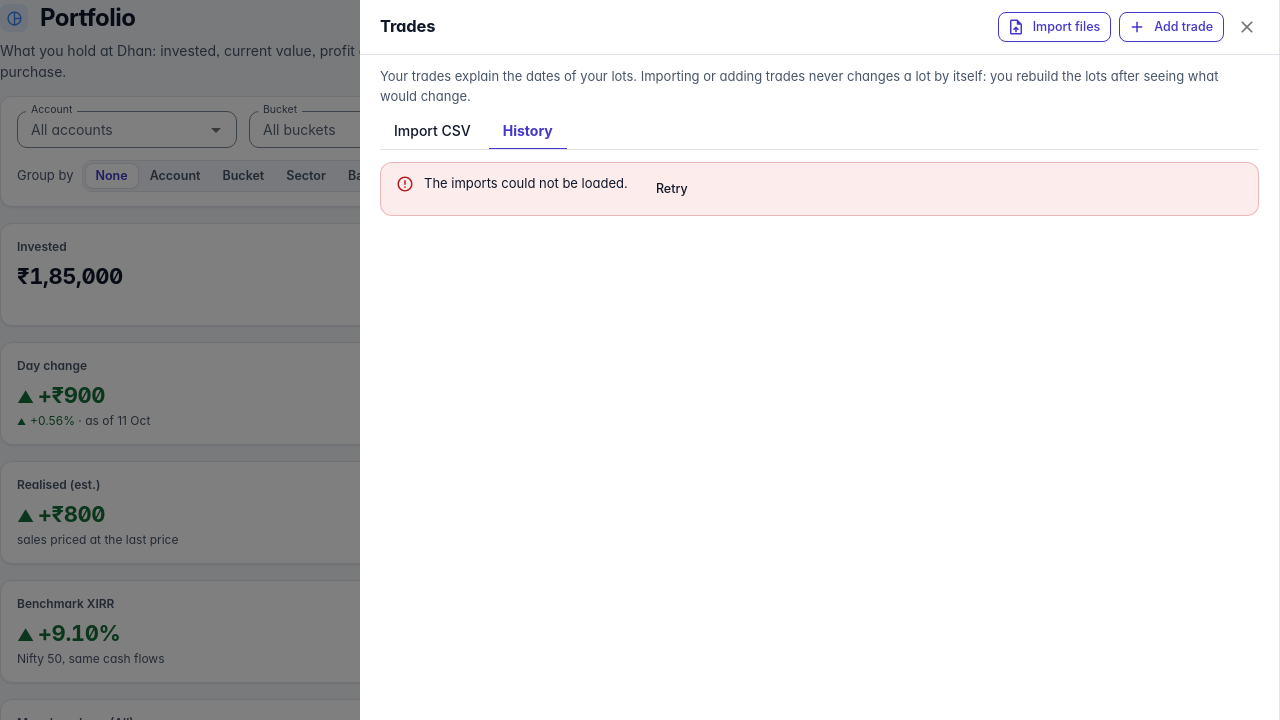
Scenario: Import history: tradebooks and depository-charges sheets › shows an error with Retry when the depository-charges imports cannot be loaded
Expected: the text "The imports could not be loaded." is shown, [424,174,628,194]
Click the button "Retry" at (672, 189), box [640,174,704,204]
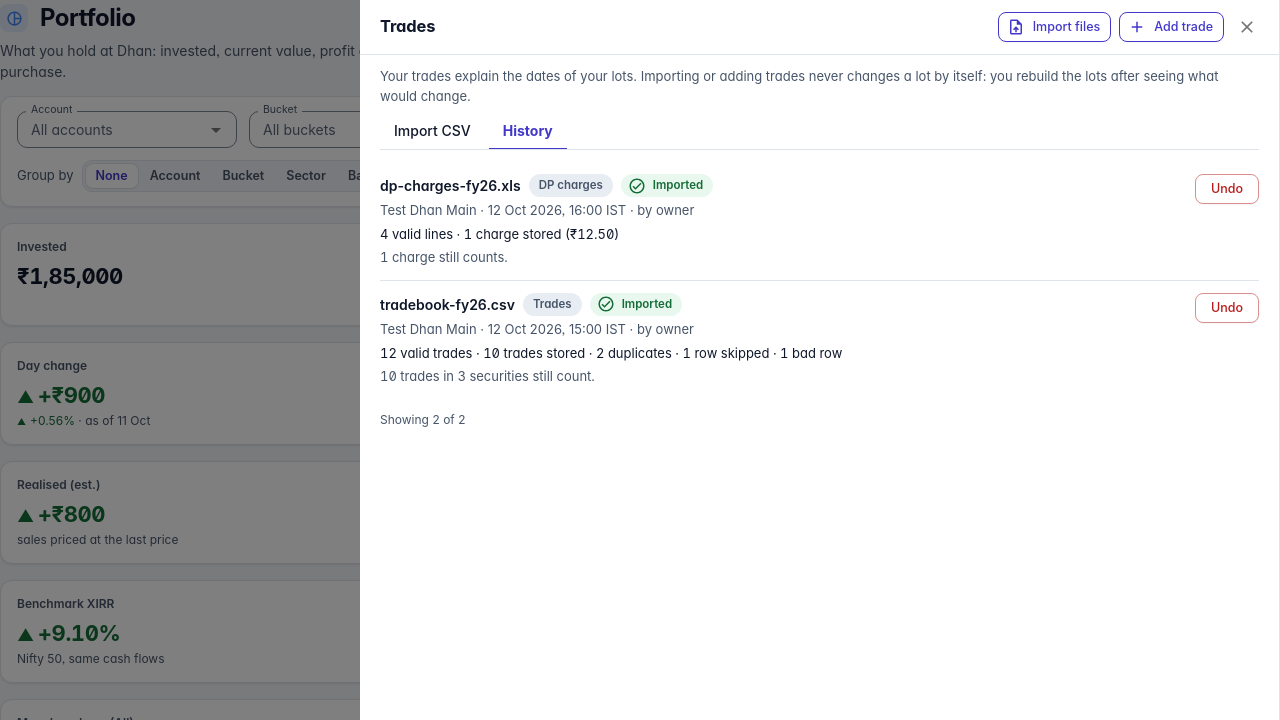
Result: the text "dp-charges-fy26.xls" is shown at [380,175,521,196]
Result: the text "tradebook-fy26.csv" is shown at [380,294,515,315]
